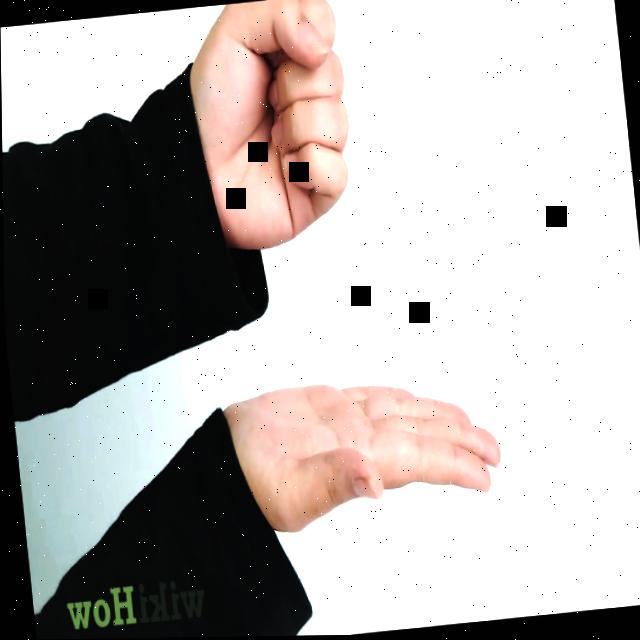Rock: (182, 0, 361, 259)
